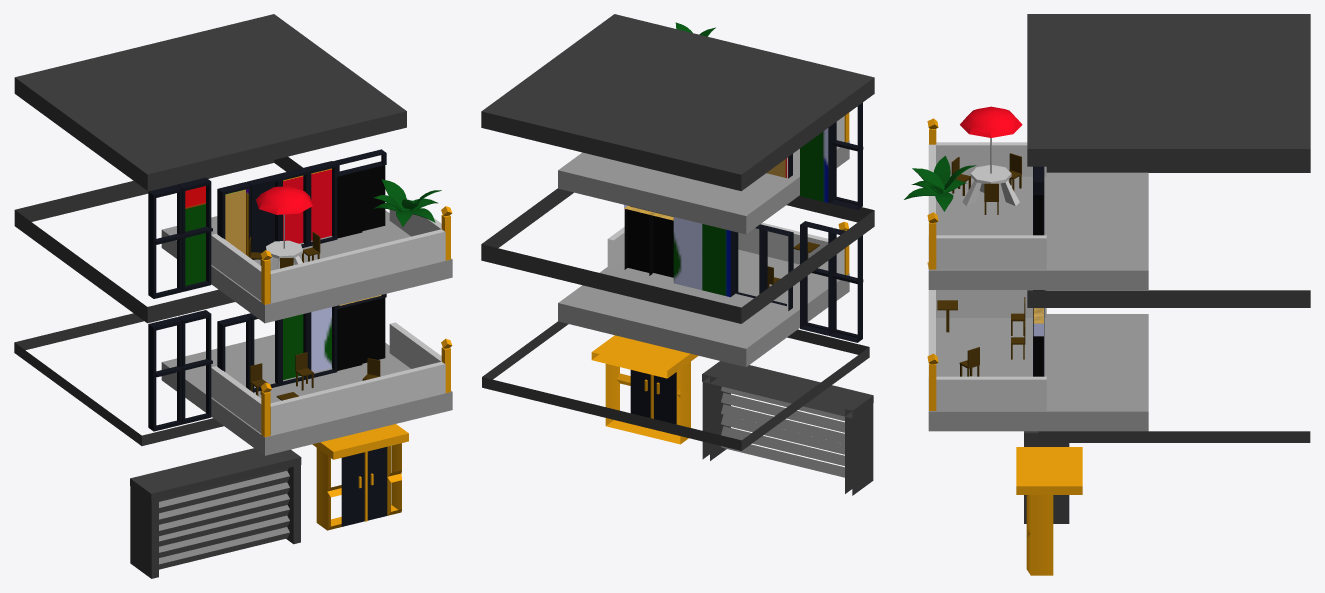
The model's file is PredioCentroAmareloLOD0.fbx.
The picture shows the model from 3 angles, left to right: view 1: azimuth 30°, elevation 25°; view 2: azimuth 150°, elevation 25°; view 3: azimuth 270°, elevation 25°; orthographic projection. The views are drawn at different scales.
Visible parts, largest first — view 1: PredioFundacaoLOD0.004, Andar1.004, Andar2.004, Garagem.004; view 2: PredioFundacaoLOD0.004, Andar1.004, Garagem.004, Andar2.004; view 3: PredioFundacaoLOD0.004, Andar2.004, Andar1.004, Garagem.004.
Boxes of the visible parts, x1,y1,x2,y2 form: PredioFundacaoLOD0.004: (14,14,408,530); Andar1.004: (161,322,452,455); Andar2.004: (161,179,452,323); Garagem.004: (130,448,301,578); PredioFundacaoLOD0.004: (481,14,874,450); Andar1.004: (558,222,849,366); Garagem.004: (702,361,873,495); Andar2.004: (558,22,849,234); PredioFundacaoLOD0.004: (927,14,1310,575); Andar2.004: (904,106,1148,289); Andar1.004: (927,290,1148,431); Garagem.004: (1024,431,1069,523).
Size of the model in its own units: 782 by 1161 by 994.
